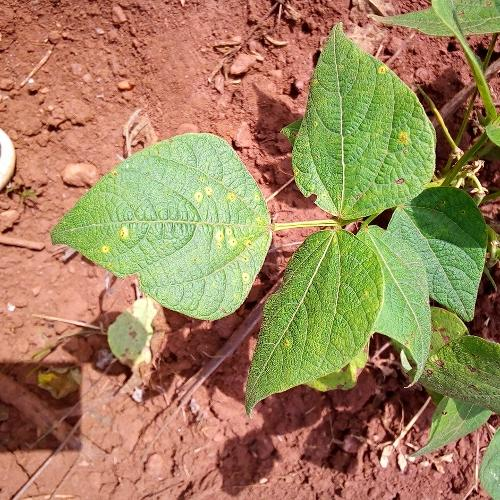hawar: (92, 178, 260, 266), (368, 109, 421, 191), (259, 296, 308, 359)
